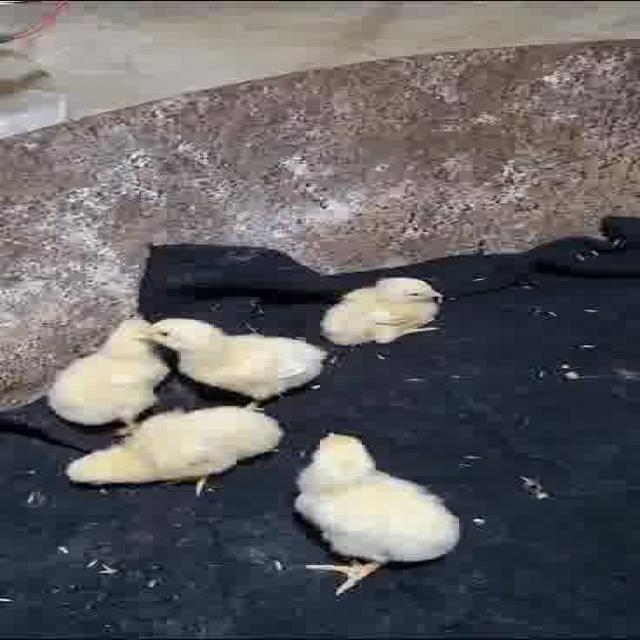poussin: (293, 423, 464, 590), (60, 400, 293, 498), (129, 318, 330, 402), (49, 316, 164, 428), (322, 272, 466, 348)
